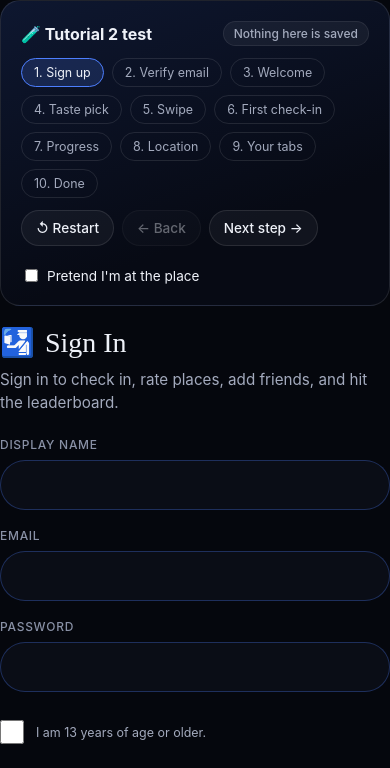
Test: Tutorial 2 (first-run guide) › has Tutorial 1's step buttons, Back and Next step, in order
Expected: the button "← Back" is disabled, left=122, top=210, right=201, bottom=246
Click the button "Next step →": x=263, y=228 left=209, top=210, right=318, bottom=246
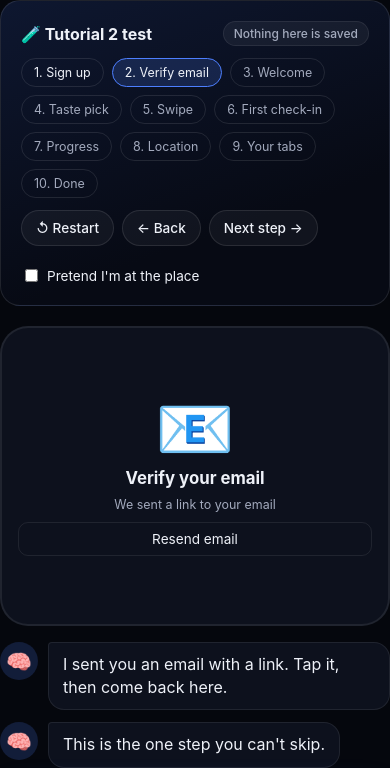
Expected: the text "Verify your email" is shown, left=125, top=468, right=265, bottom=488
Click the button "Next step →": x=263, y=228 left=209, top=210, right=318, bottom=246
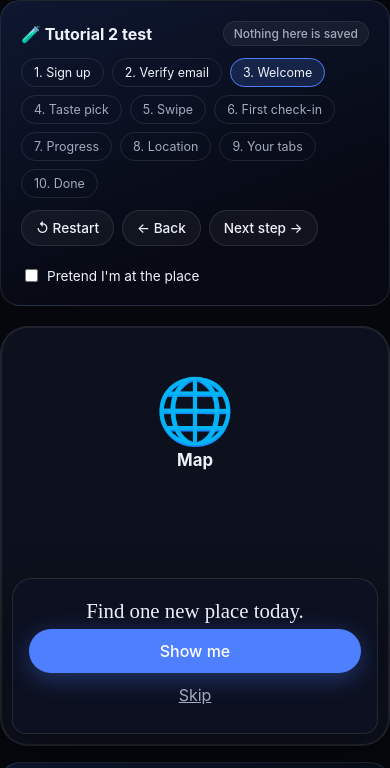
Expected: the text "Find one new place today." is shown, left=86, top=599, right=304, bottom=622
Click the button "← Back": x=161, y=228 left=122, top=210, right=201, bottom=246
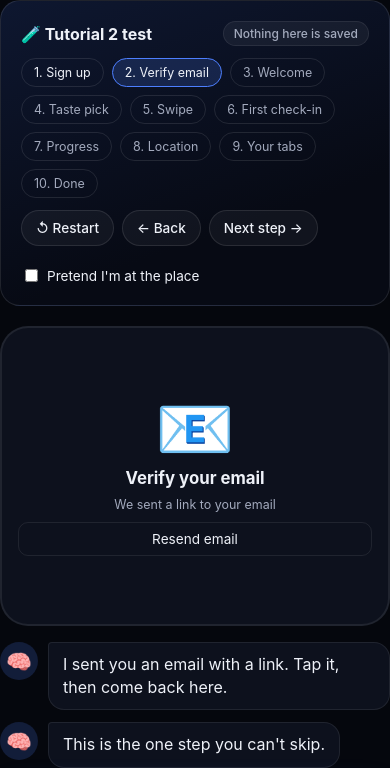
Expected: the text "Verify your email" is shown, left=125, top=468, right=265, bottom=488
